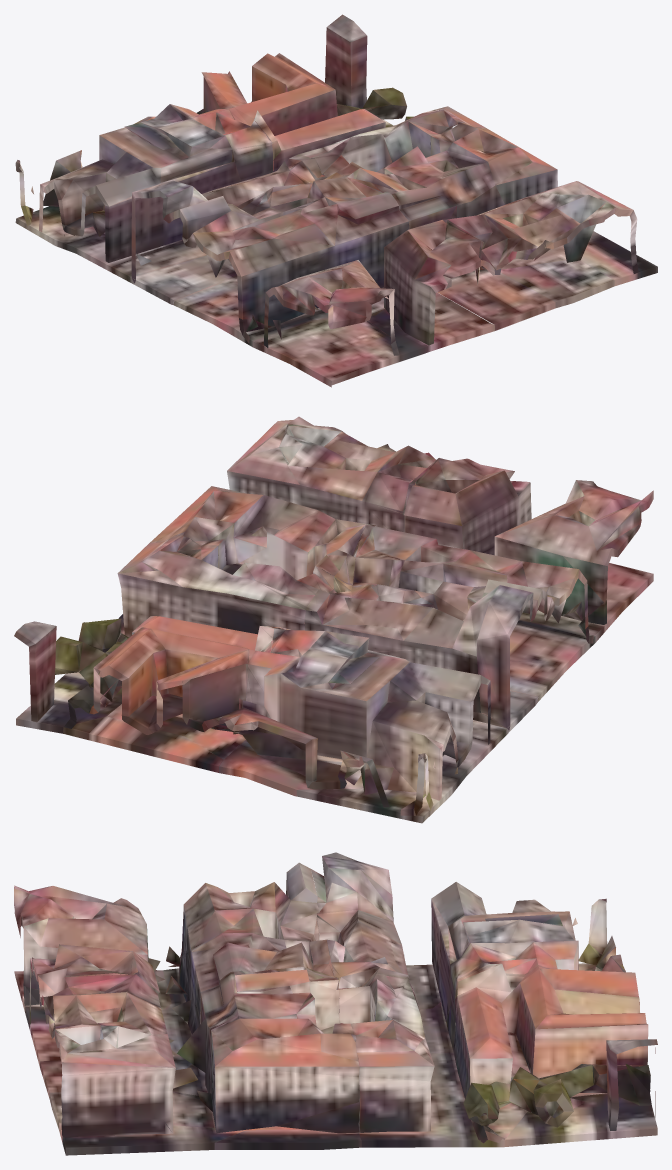
3 renders of one model, top to bottom at view 1: azimuth 30°, elevation 25°; view 2: azimuth 150°, elevation 25°; view 3: azimuth 270°, elevation 25°, orthographic. The views are drawn at different scales.
Parts seen in each view (by area): view 1: Mesh_0; view 2: Mesh_0; view 3: Mesh_0.
Part boxes in pixels (x1,y1,x2,y2): Mesh_0: [15, 14, 657, 387]; Mesh_0: [14, 416, 653, 823]; Mesh_0: [14, 852, 657, 1155].
Size of the model in its own units: 134 by 36.56 by 165.
1 material, 1 textured.
